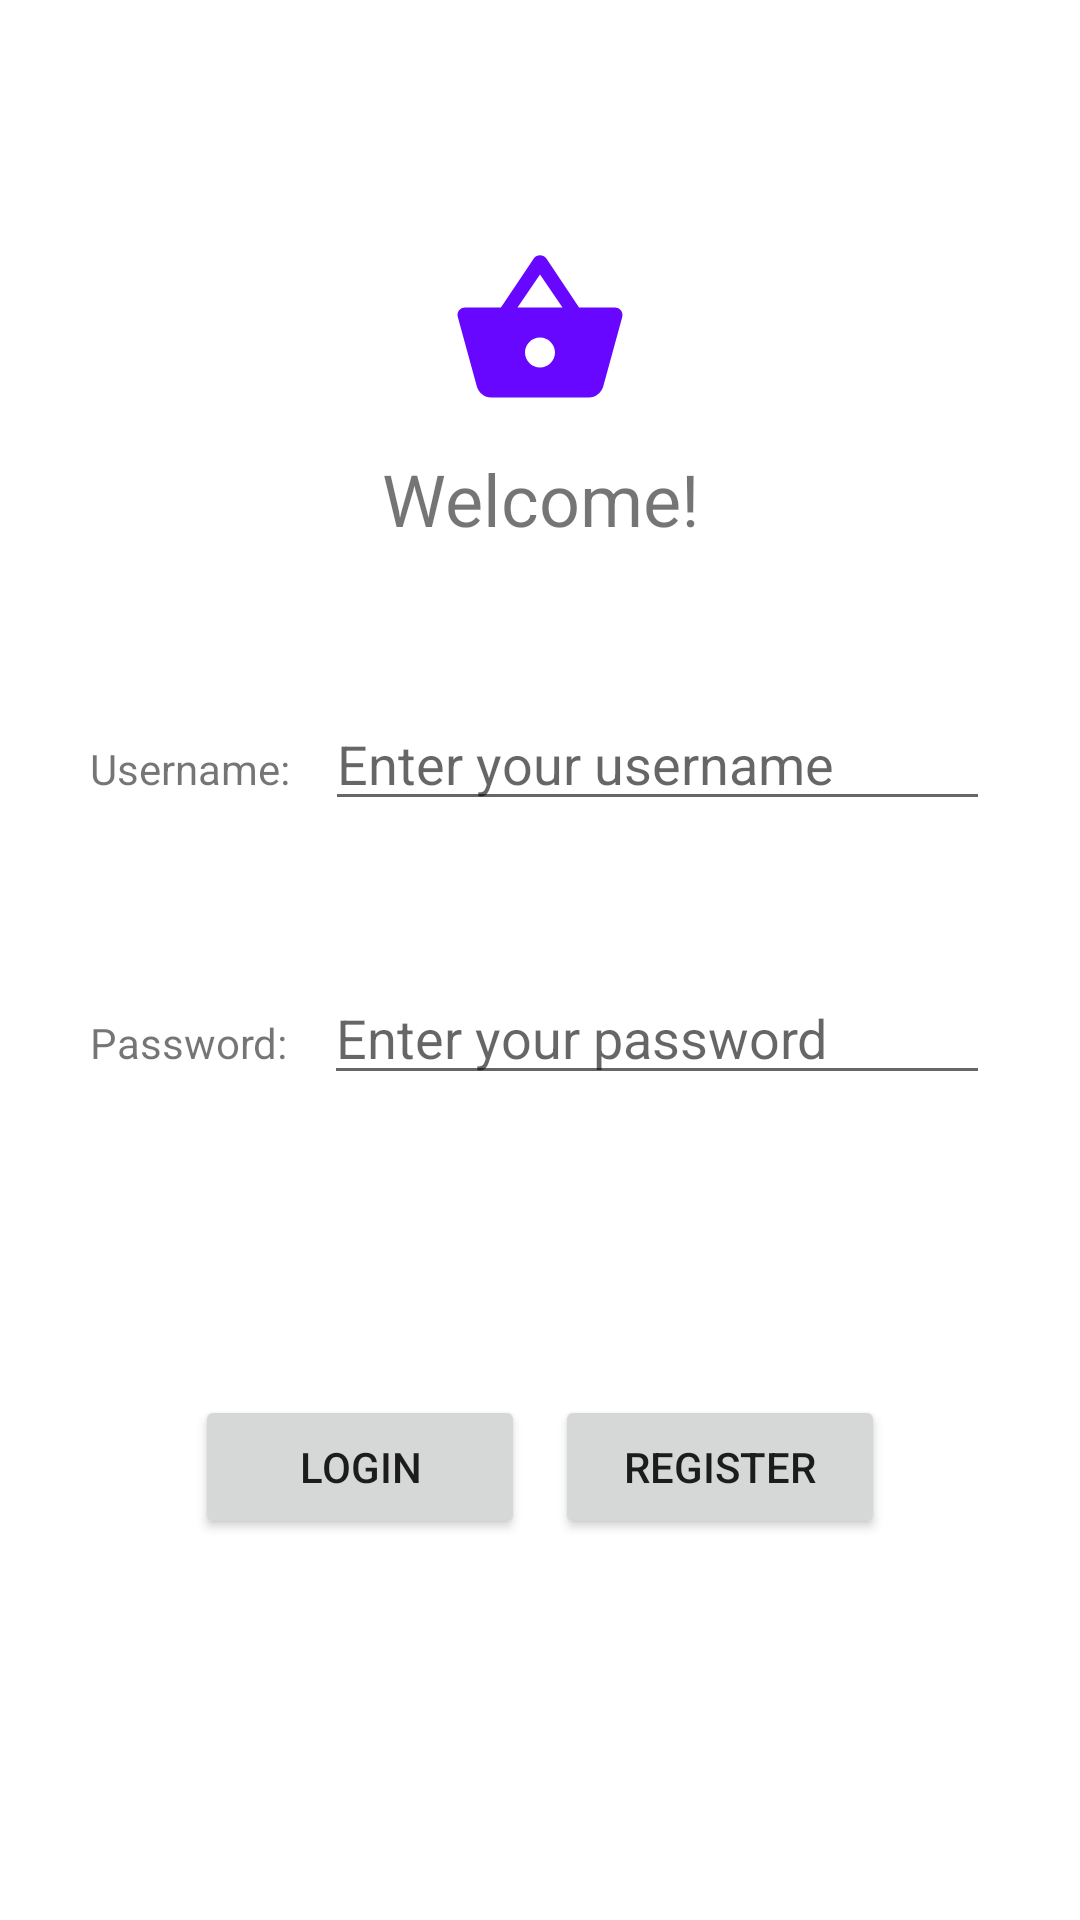

Where icons sit on this 1080w x 1920h app screen, as (x1, y1, x2, y2):
shopping basket: (457, 255, 623, 398)
